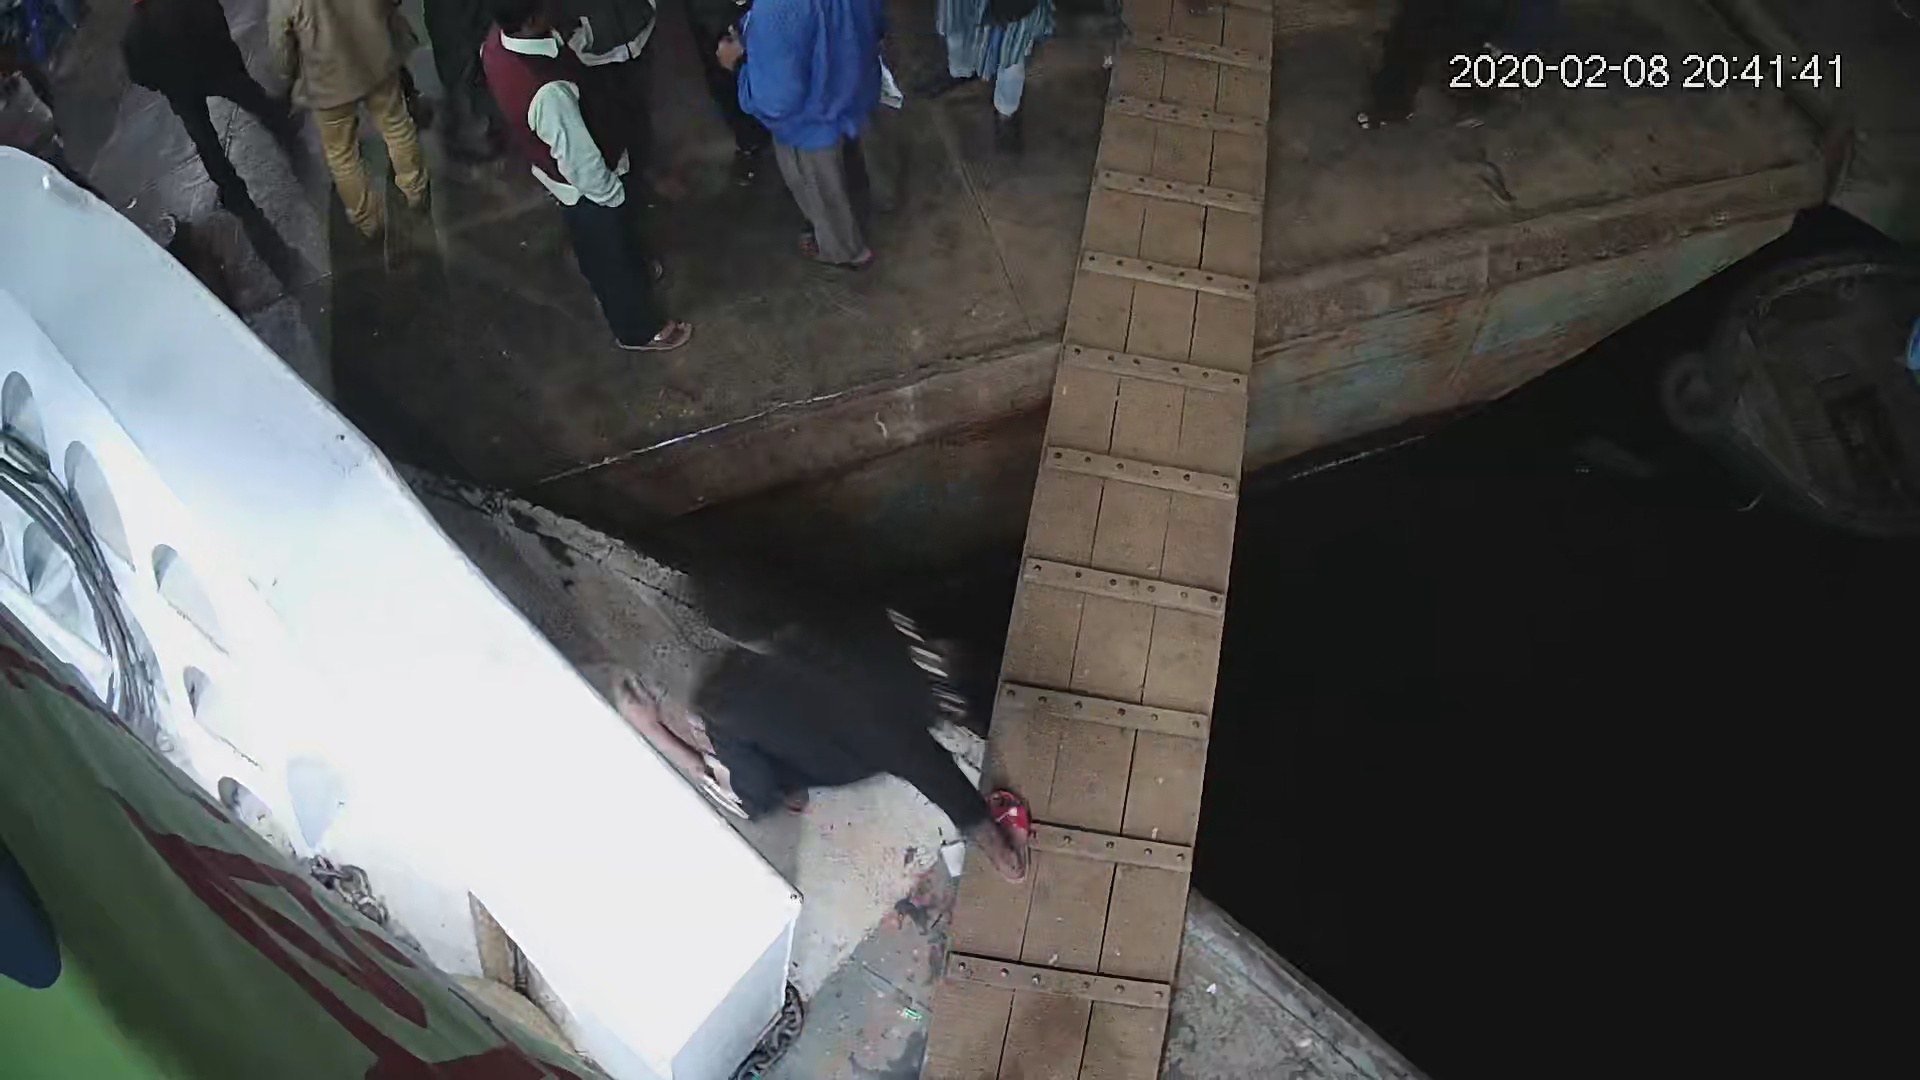person: (613, 538, 1040, 895), (471, 3, 698, 365), (728, 1, 900, 278), (273, 1, 438, 245), (125, 1, 288, 218)
